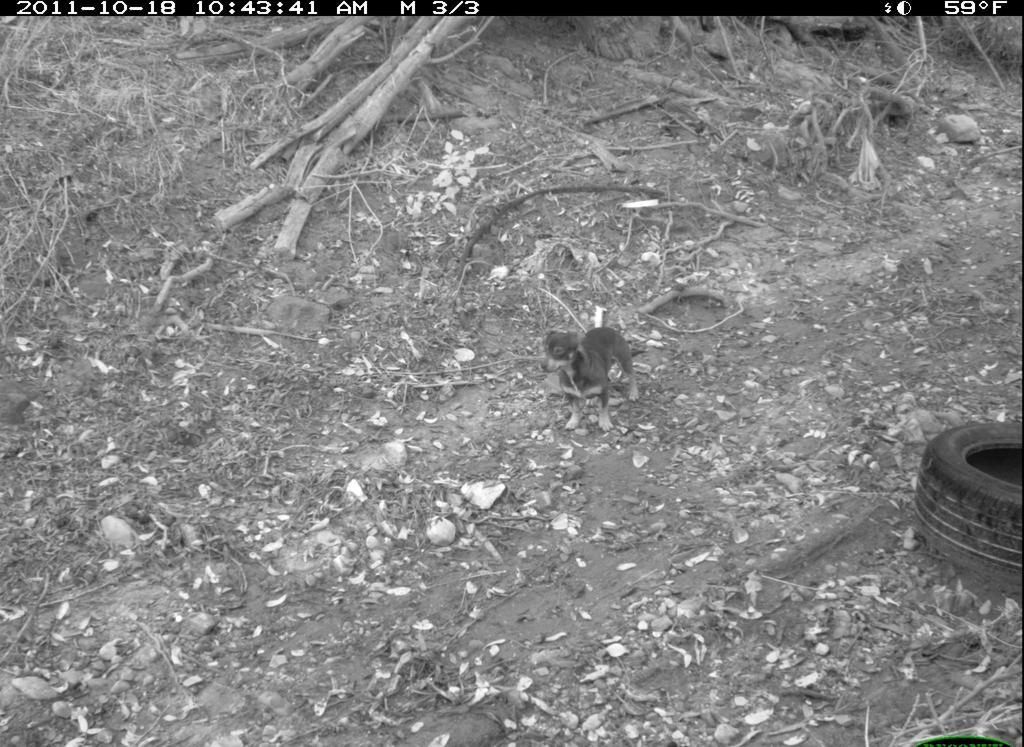dog: (538, 323, 653, 436)
